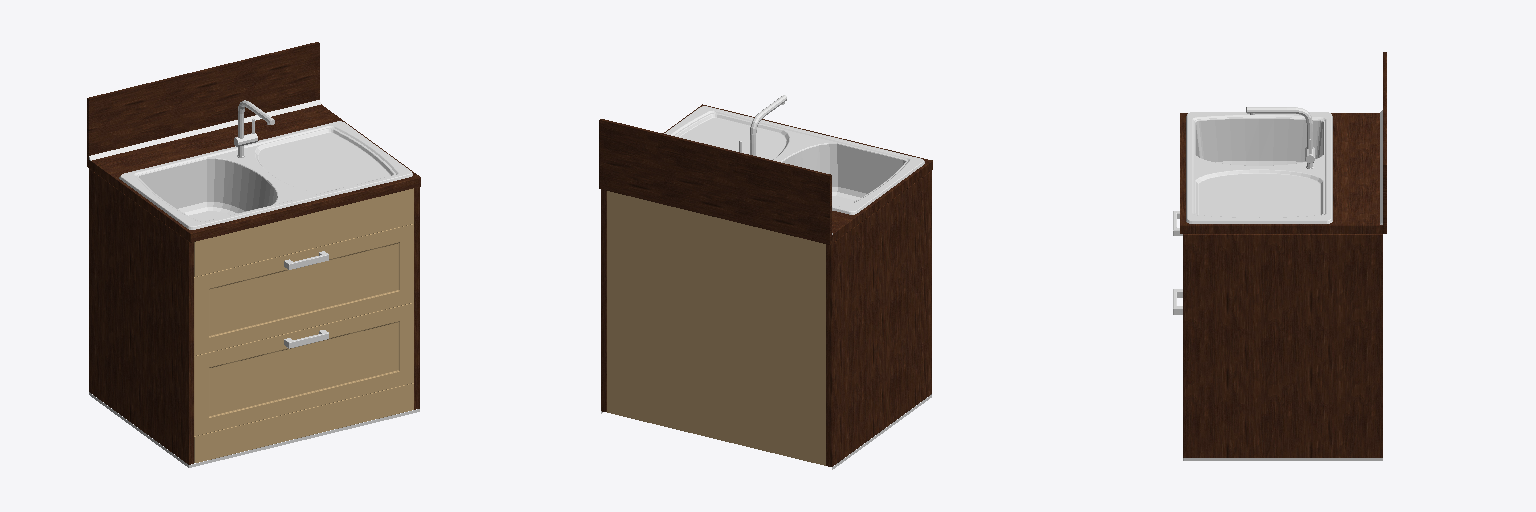
3 renders of one model, left to right at view 1: azimuth 30°, elevation 25°; view 2: azimuth 150°, elevation 25°; view 3: azimuth 270°, elevation 25°, orthographic.
Size of the model in its own units: 0.8 by 0.9845 by 0.64.
4 materials, 2 textured.